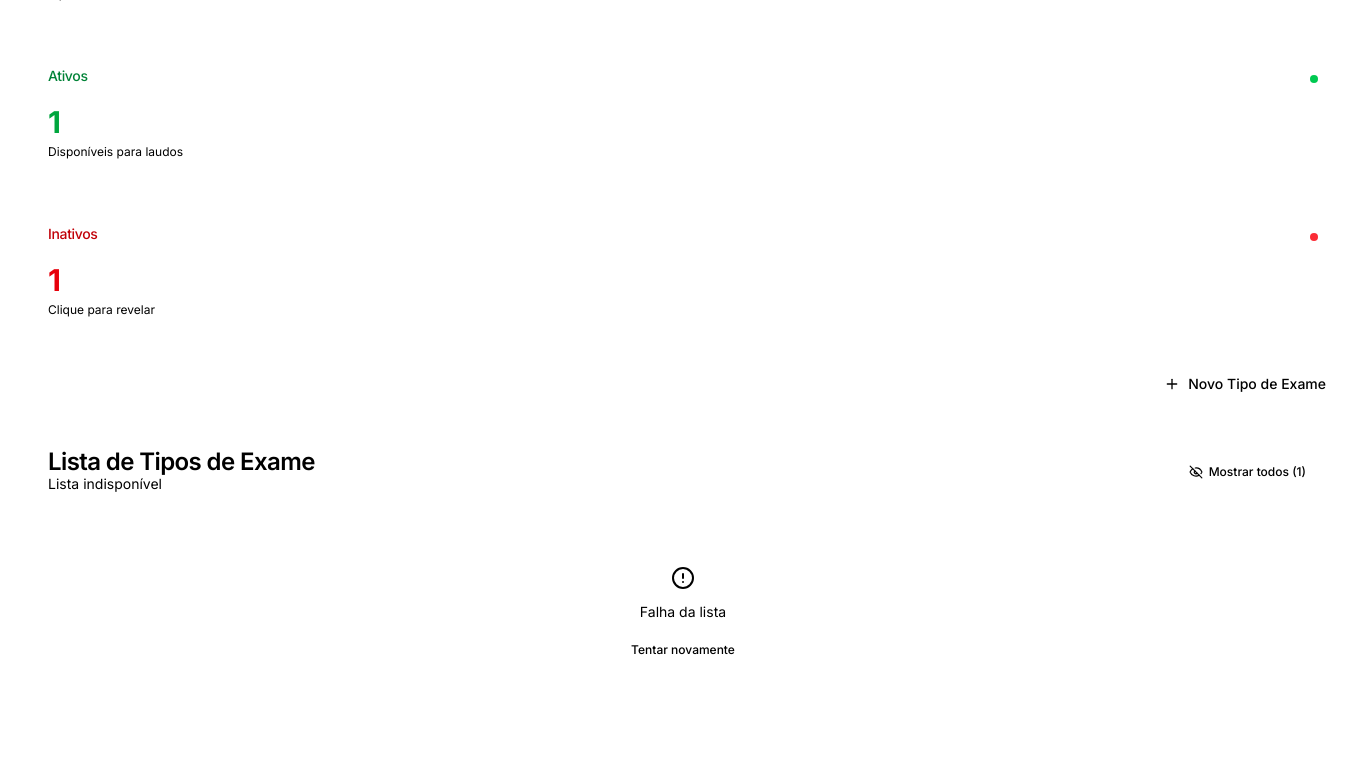
TiposExamePage › oferece nova tentativa quando a lista falha
This screenshot has width=1366, height=762.
(page scrolled)
Expected: the text "Falha da lista" is shown, [640,602,726,622]
What coordinates should you click on to do the following:
click the button "Tentar novamente"
I would click on:
 (683, 650)
Its box is [619,634,747,666].
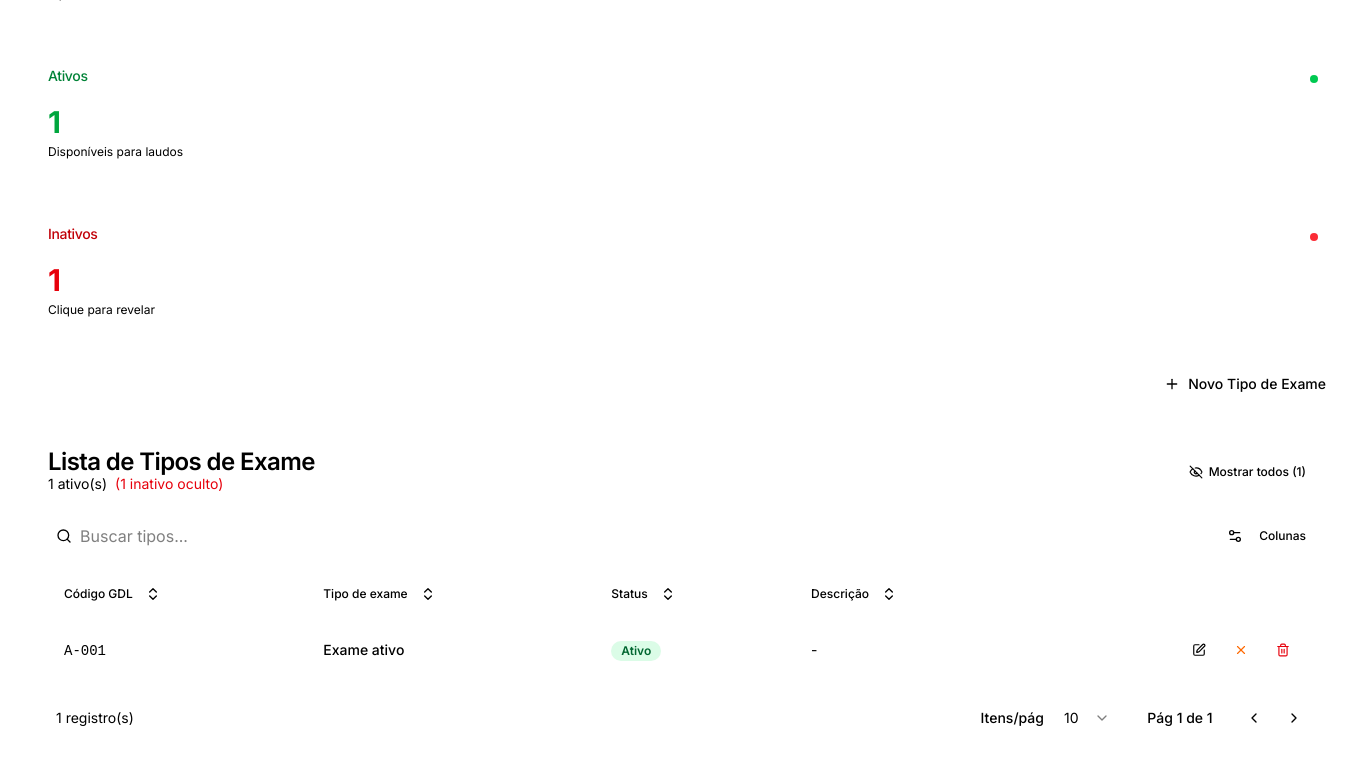
Result: the text "Exame ativo" is shown at [323,641,404,658]
